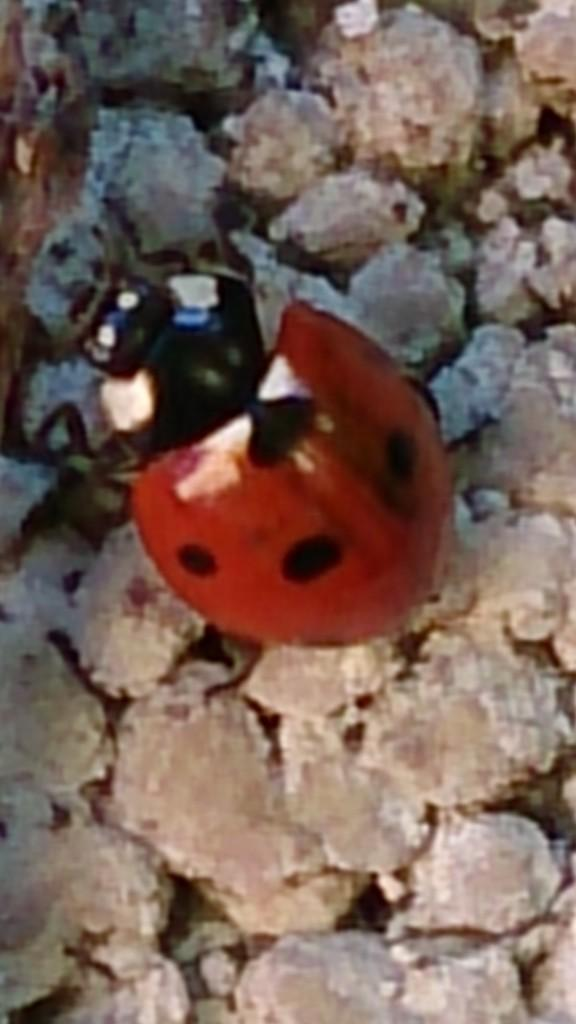ladybug: (29, 191, 464, 651)
